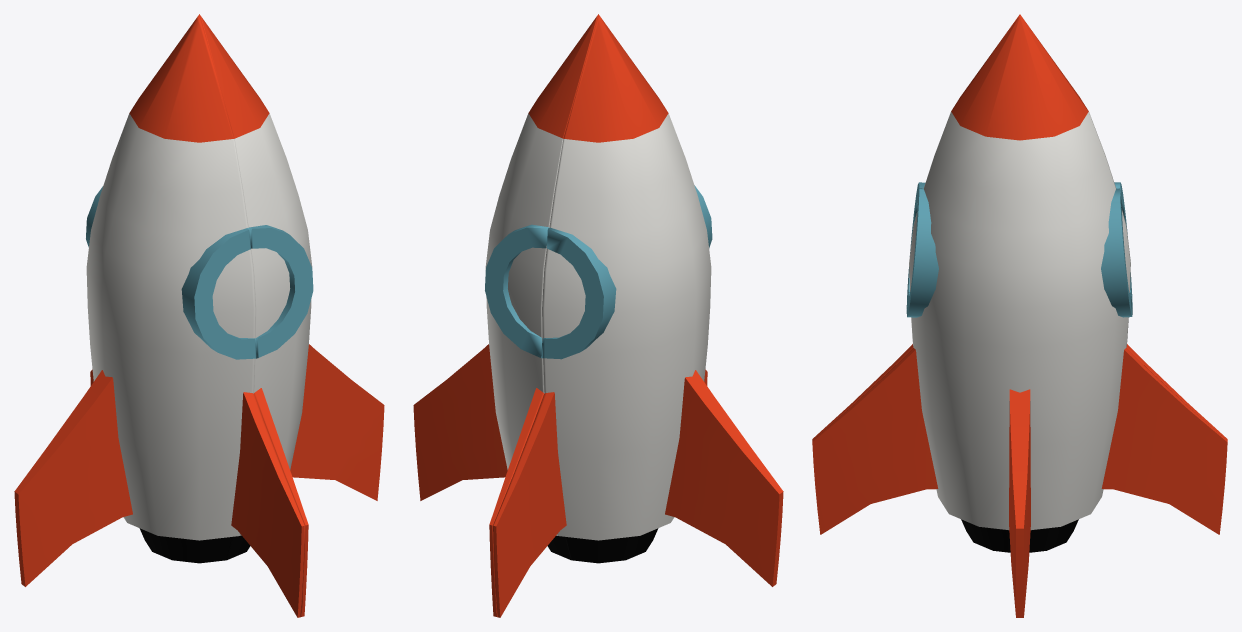
Rendered from SM_Rocket_01a.fbx.
3 views of the same model, side by side, from view 1: azimuth 30°, elevation 25°; view 2: azimuth 150°, elevation 25°; view 3: azimuth 270°, elevation 25° (orthographic).
Parts seen in each view (by area): view 1: Rocket_02, Rocket_01; view 2: Rocket_02, Rocket_01; view 3: Rocket_01, Rocket_02.
Part boxes in pixels (x1,y1,x2,y2): Rocket_02: (14,14,304,617); Rocket_01: (199,14,384,616); Rocket_02: (493,14,783,617); Rocket_01: (413,14,598,616); Rocket_01: (812,14,1227,617); Rocket_02: (812,23,1227,440).
Bounding box in the file's own units: 24.85 × 34.3 × 24.85.
